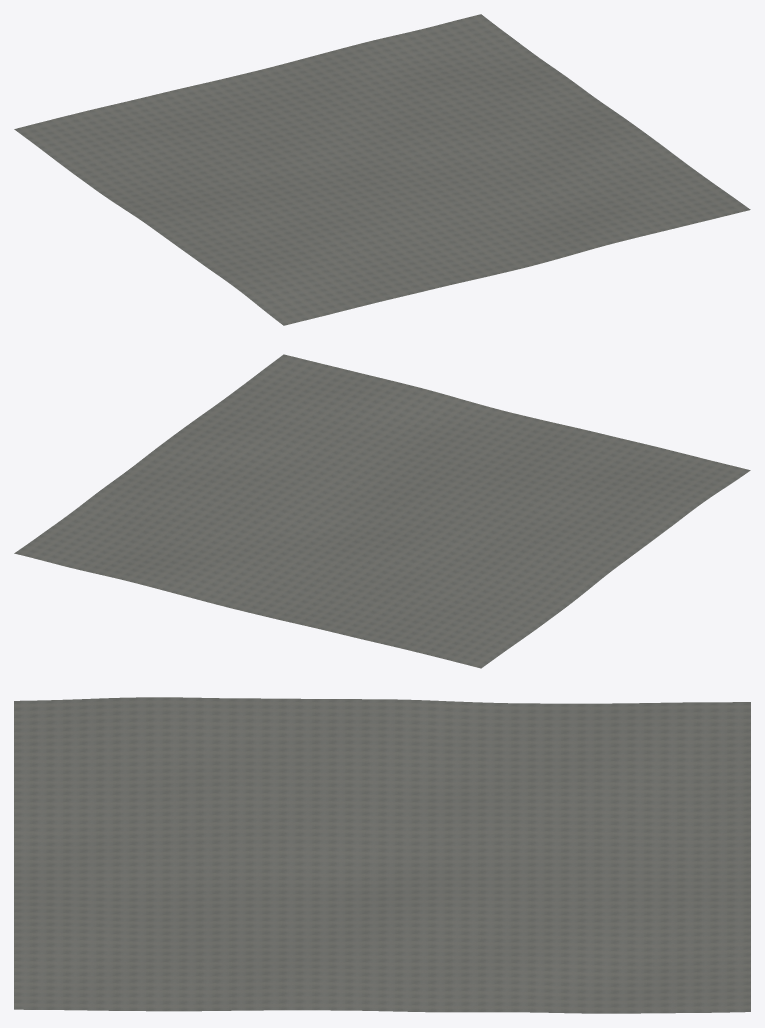
File: Terrain.glb
The picture shows the model from 3 angles, top to bottom: view 1: azimuth 30°, elevation 25°; view 2: azimuth 150°, elevation 25°; view 3: azimuth 270°, elevation 25°; orthographic projection. The views are drawn at different scales.
Visible parts, largest first — view 1: Plane; view 2: Plane; view 3: Plane.
Part boxes in pixels (x1,y1,x2,y2): Plane: (14,14,750,325); Plane: (14,354,750,668); Plane: (14,697,750,1013).
Size of the model in its own units: 144 by 1.44 by 144.
Materials: 1 (1 with a texture image).
